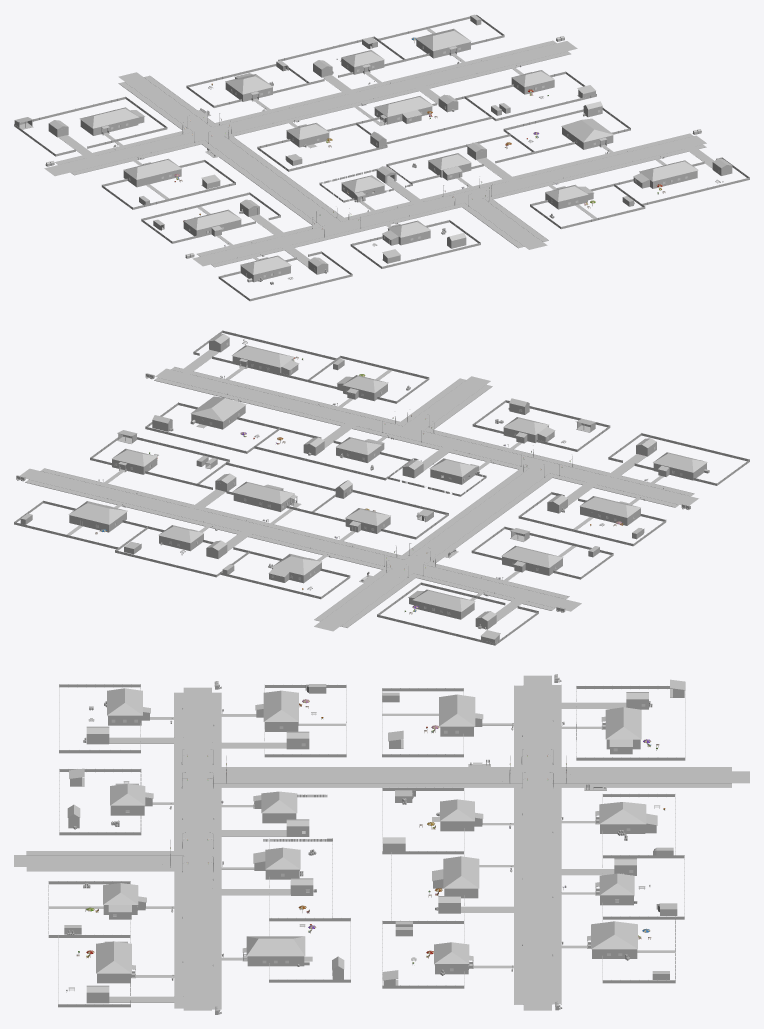
The model's file is PuebloLanberis.fbx.
3 views of the same model, one above another, from view 1: azimuth 30°, elevation 25°; view 2: azimuth 150°, elevation 25°; view 3: azimuth 270°, elevation 25° (orthographic). The views are drawn at different scales.
Visible parts, largest first — view 1: Plane.003, Tropka.006, Tropka.023, Tropka.018, Tropka.024, Tropka.019, Zabor.025, Roof.012, Roof.008, Roof.004, Roof.026, Roof.018 (+18 smaller); view 2: Plane.003, Tropka.006, Tropka.023, Tropka.018, Tropka.024, Tropka.019, Zabor.025, Roof.012, Roof.008, Roof.004, Roof.026, Roof.018 (+18 smaller); view 3: Plane.003, Tropka.006, Tropka.023, Tropka.018, Tropka.024, Tropka.019, Roof.008, Roof.012, Roof.004, Roof.018, Roof.006, Roof.026 (+19 smaller).
Boxes of the visible parts, box(x1,y1,x2,y2) form: Plane.003: box(44, 41, 706, 266); Tropka.006: box(223, 51, 693, 221); Tropka.023: box(70, 140, 524, 267); Tropka.018: box(144, 40, 556, 127); Tropka.024: box(483, 144, 706, 241); Tropka.019: box(55, 82, 192, 164); Zabor.025: box(14, 96, 167, 156); Roof.012: box(561, 118, 613, 142); Roof.008: box(415, 28, 471, 50); Roof.004: box(79, 107, 139, 128); Roof.026: box(639, 160, 698, 181); Roof.018: box(374, 96, 433, 116); Plane.003: box(20, 368, 698, 631); Tropka.006: box(40, 377, 529, 559); Tropka.023: box(423, 384, 694, 599); Tropka.018: box(25, 479, 392, 621); Tropka.024: box(171, 366, 466, 426); Tropka.019: box(340, 573, 555, 627); Zabor.025: box(377, 582, 538, 645); Roof.012: box(190, 396, 246, 421); Roof.008: box(68, 501, 127, 524); Roof.004: box(413, 589, 475, 611); Roof.026: box(231, 345, 294, 367); Roof.018: box(232, 481, 294, 504); Plane.003: box(14, 675, 749, 1010); Tropka.006: box(212, 783, 523, 1009); Tropka.023: box(26, 685, 523, 855); Tropka.018: box(552, 783, 731, 1004); Tropka.024: box(26, 866, 183, 1008); Tropka.019: box(552, 684, 731, 771); Roof.008: box(591, 921, 637, 949); Roof.012: box(246, 936, 305, 956); Roof.004: box(605, 707, 641, 739); Roof.018: box(443, 856, 479, 888); Roof.006: box(439, 694, 475, 726); Roof.026: box(96, 941, 131, 973).
Size of the model in its own units: 28367 by 758 by 26003.
